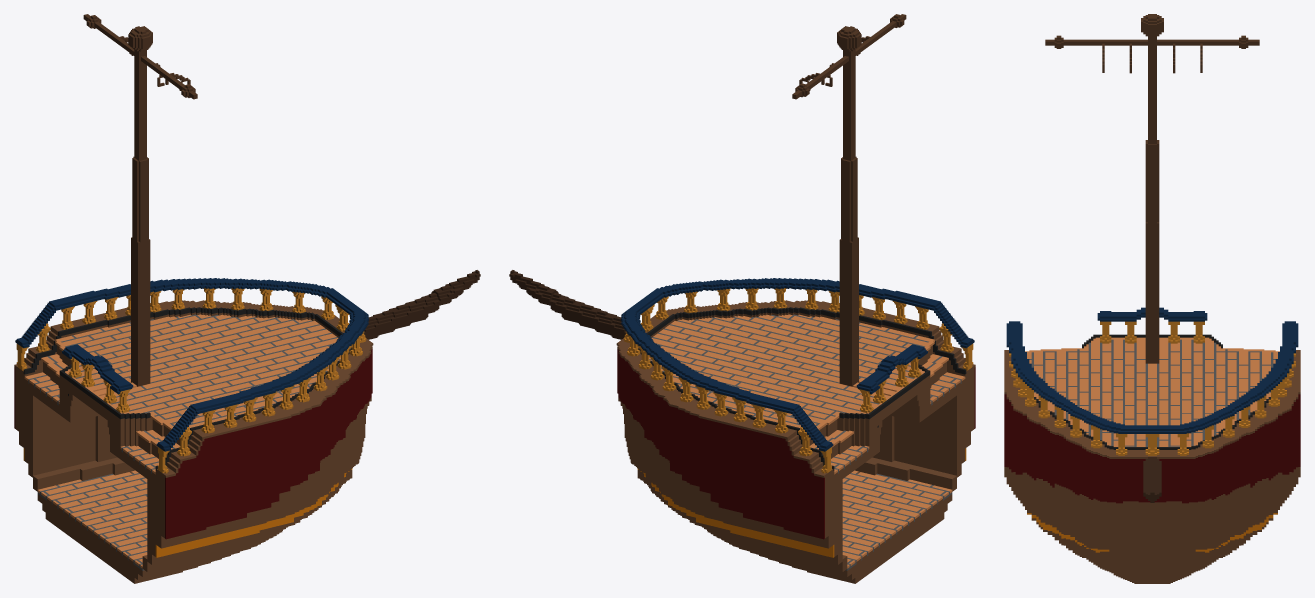
File: ship-4.obj
3 views of the same model, side by side, from view 1: azimuth 30°, elevation 25°; view 2: azimuth 150°, elevation 25°; view 3: azimuth 270°, elevation 25° (orthographic). The views are drawn at different scales.
Bounding box in the file's own units: 19.2 × 24.1 × 13.
1 material, 1 textured.
